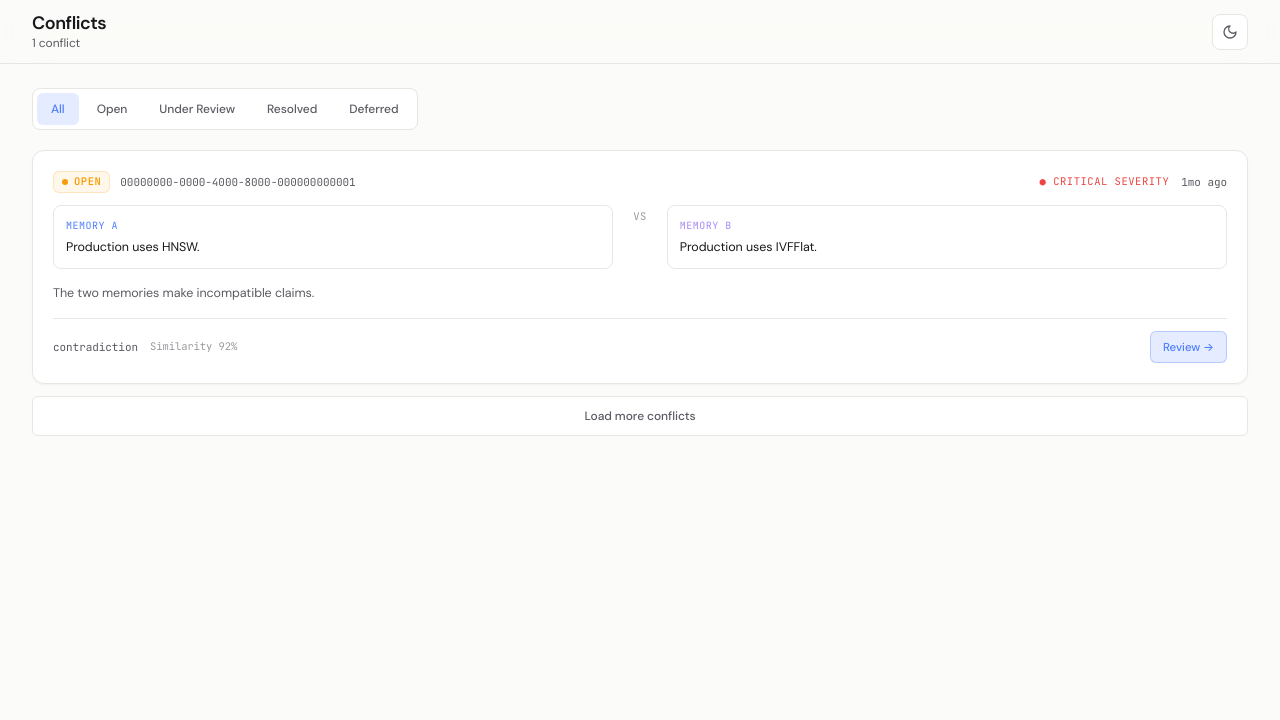
Test: loads the next conflict page and resets paging when the status changes
This screenshot has width=1280, height=720.
Expected: the text "Production uses HNSW." is shown, [66,239,200,255]
Click the button with test id "conflicts-load-more".
click(640, 416)  # box [32,396,1248,436]
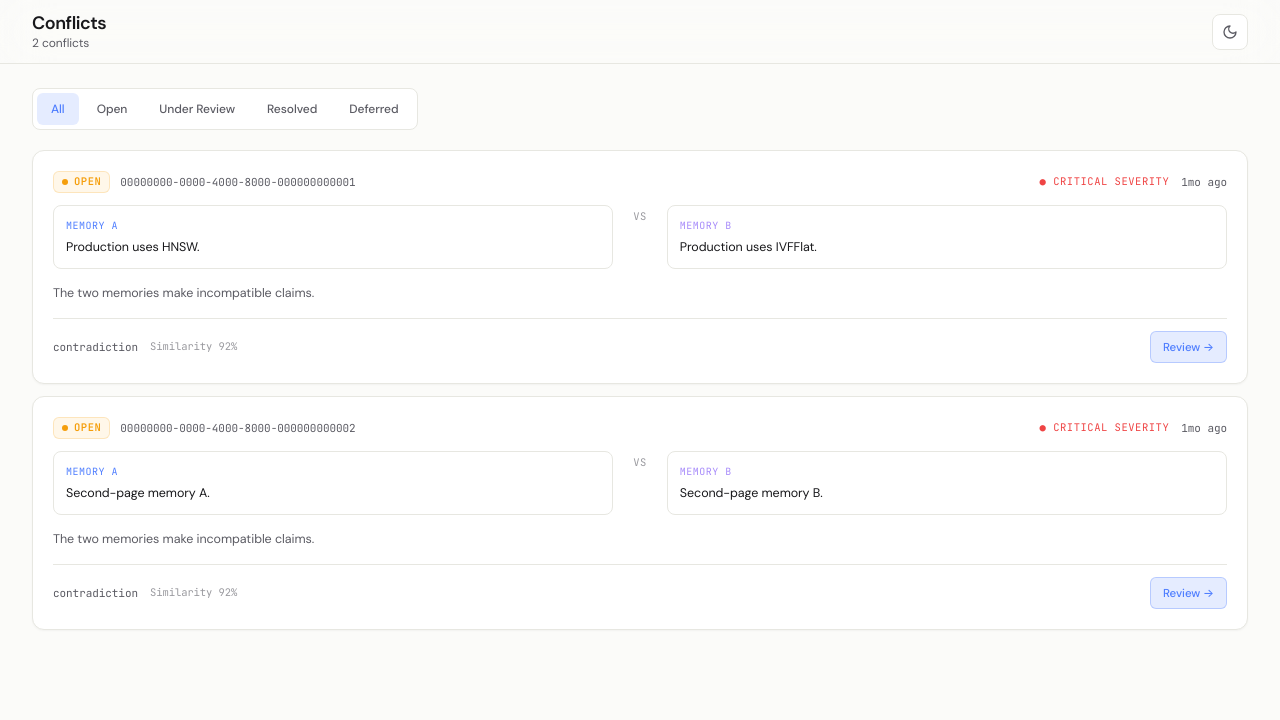
Expected: the text "Second-page memory A." is shown, [66,485,210,501]
Click the button with test id "conflict-tab-resolved".
click(292, 109)  # box [253,93,331,125]
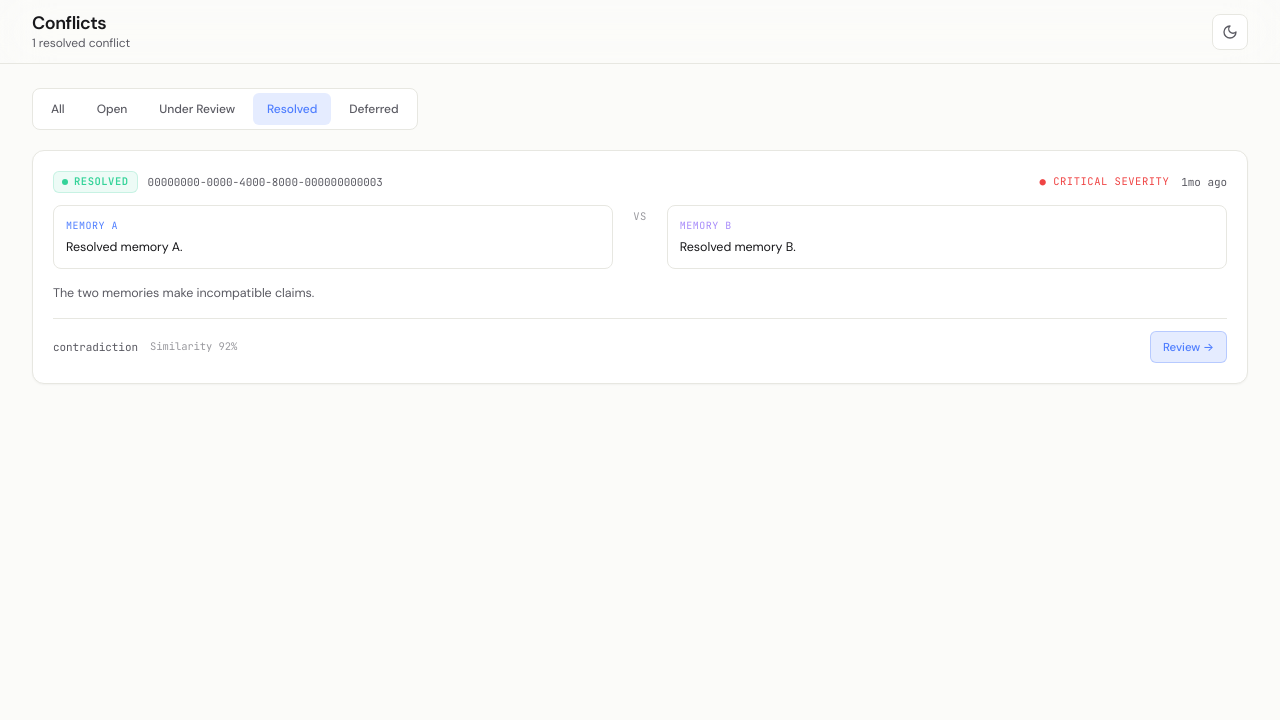
Expected: the text "Resolved memory A." is shown, [66,239,182,255]
Expected: the link "Production uses HNSW." is gone
Expected: the link "Second-page memory A." is gone
